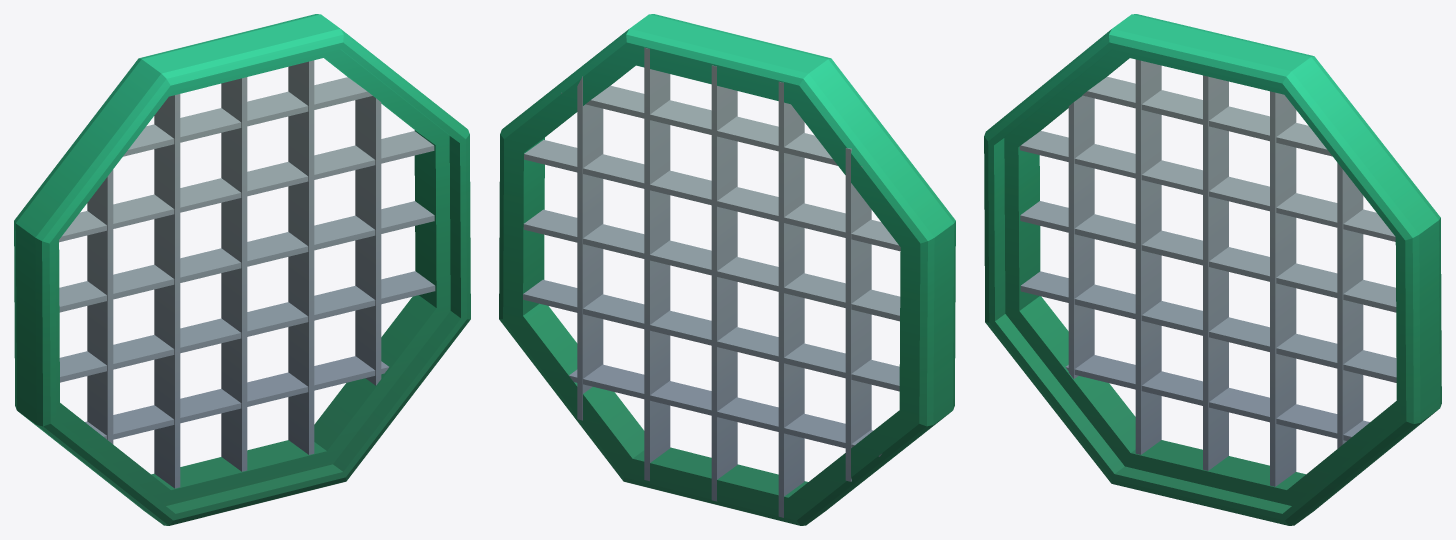
The model's file is PotatoSlicer1.fbx.
3 renders of one model, left to right at view 1: azimuth 30°, elevation 25°; view 2: azimuth 150°, elevation 25°; view 3: azimuth 330°, elevation 25°, orthographic.
Visible parts, largest first — view 1: Circle, Plane.001, Plane; view 2: Circle, Plane.001, Plane; view 3: Circle, Plane.001, Plane.
Boxes of the visible parts, box(x1,y1,x2,y2) form: Circle: box(14, 14, 470, 525); Plane.001: box(87, 60, 381, 488); Plane: box(59, 77, 435, 439); Circle: box(499, 14, 955, 525); Plane.001: box(577, 47, 871, 517); Plane: box(523, 85, 900, 456); Circle: box(984, 14, 1441, 525); Plane.001: box(1068, 59, 1363, 486); Plane: box(1019, 76, 1396, 440).
Bounding box in the file's own units: 255 × 255 × 32.2.
